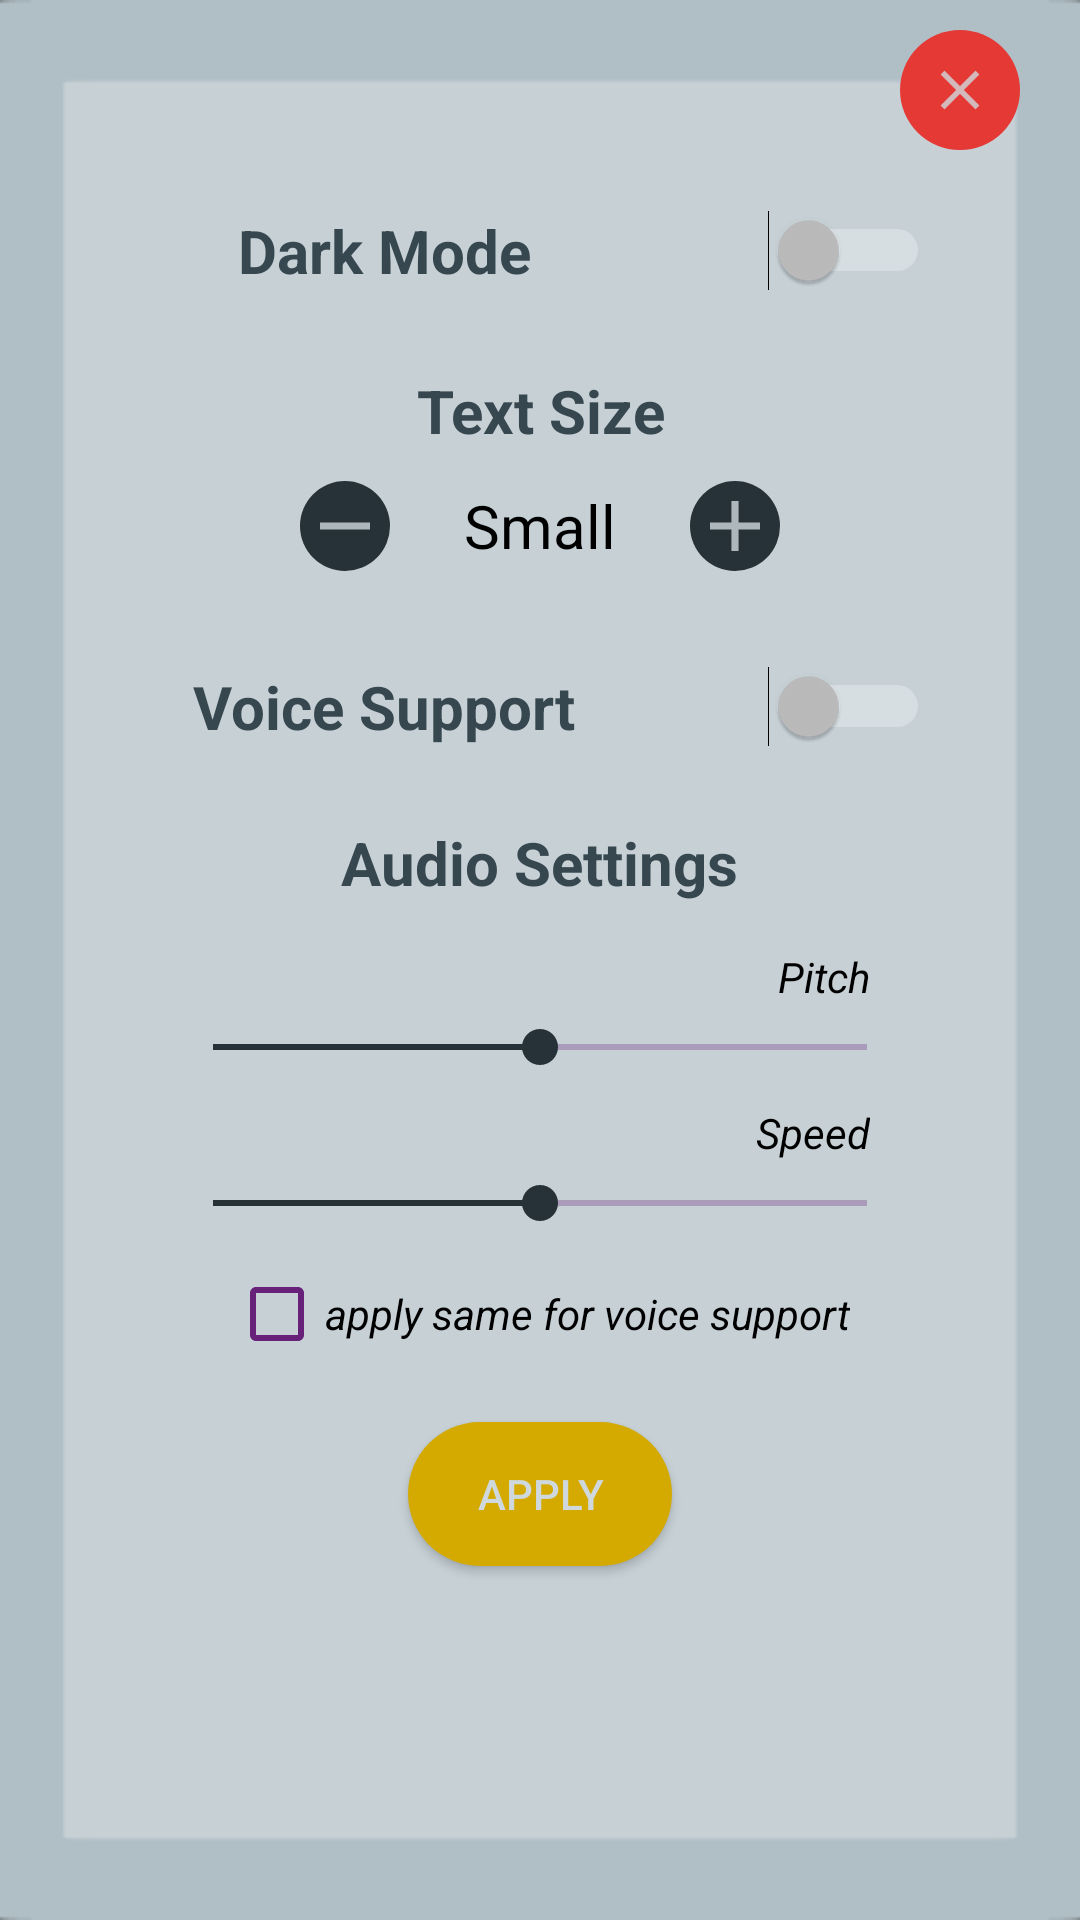

Where to tap for icons on this 1080px×1920px app screen, as point (x, y):
Close: point (960, 90)
Minus: point (345, 526)
Plus: point (735, 526)
